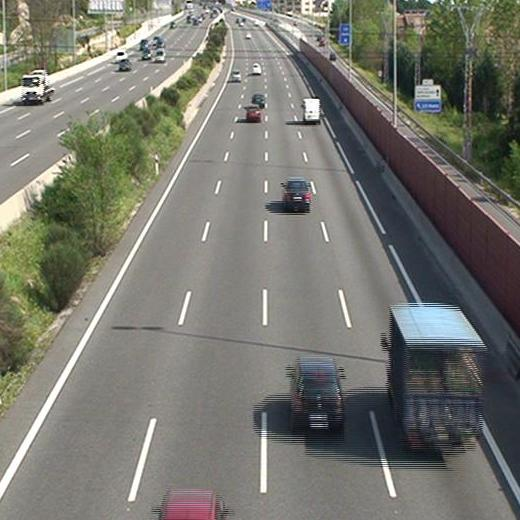car: (285, 360, 345, 432), (279, 177, 313, 213), (245, 105, 262, 121), (227, 69, 242, 82), (251, 94, 265, 106), (250, 61, 261, 76)
small-truck: (382, 306, 484, 453)
van: (301, 98, 320, 121)
